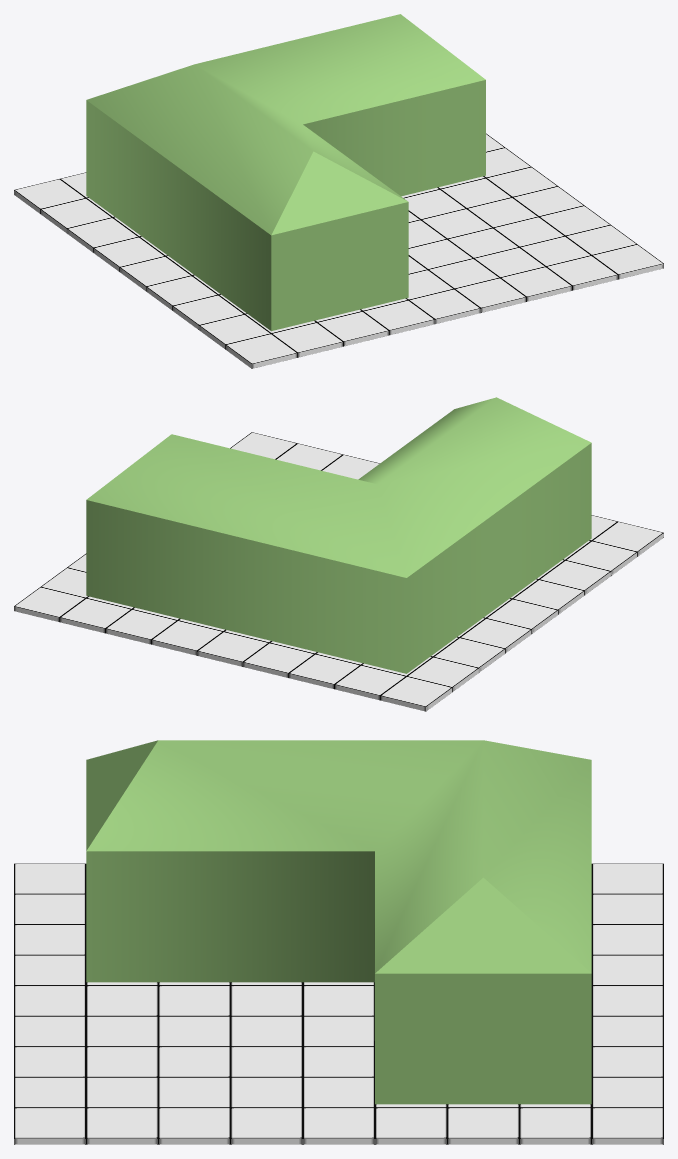
File: XG_Village-School.glb
The picture shows the model from 3 angles, top to bottom: view 1: azimuth 30°, elevation 25°; view 2: azimuth 150°, elevation 25°; view 3: azimuth 270°, elevation 25°; orthographic projection. The views are drawn at different scales.
Parts seen in each view (by area): view 1: building_7m_3m_g_shape_007, 1m_base_block_2118, 1m_base_block_2111, 1m_base_block_2116, 1m_base_block_2115, 1m_base_block_2117, 1m_base_block_2114, 1m_base_block_2119, 1m_base_block_2112, 1m_base_block_2113, 1m_base_block_2099, 1m_base_block_2097 (+23 smaller); view 2: building_7m_3m_g_shape_007, 1m_base_block_2127, 1m_base_block_2120, 1m_base_block_2124, 1m_base_block_2125, 1m_base_block_2126, 1m_base_block_2121, 1m_base_block_2122, 1m_base_block_2128, 1m_base_block_2123, 1m_base_block_2099, 1m_base_block_2103 (+10 smaller); view 3: building_7m_3m_g_shape_007, 1m_base_block_2104, 1m_base_block_2108, 1m_base_block_2105, 1m_base_block_2107, 1m_base_block_2109, 1m_base_block_2110, 1m_base_block_2119, 1m_base_block_2128, 1m_base_block_2106, 1m_base_block_2052, 1m_base_block_2051 (+30 smaller).
Boxes of the visible parts, left/top/right/bottom form: building_7m_3m_g_shape_007: left=86, top=14, right=485, bottom=331; 1m_base_block_2118: left=225, top=333, right=297, bottom=368; 1m_base_block_2111: left=500, top=266, right=572, bottom=301; 1m_base_block_2116: left=546, top=255, right=618, bottom=290; 1m_base_block_2115: left=317, top=311, right=389, bottom=346; 1m_base_block_2117: left=272, top=322, right=343, bottom=357; 1m_base_block_2114: left=363, top=300, right=434, bottom=335; 1m_base_block_2119: left=592, top=244, right=663, bottom=279; 1m_base_block_2112: left=455, top=278, right=526, bottom=312; 1m_base_block_2113: left=409, top=289, right=480, bottom=323; 1m_base_block_2099: left=119, top=256, right=191, bottom=291; 1m_base_block_2097: left=67, top=217, right=138, bottom=252; building_7m_3m_g_shape_007: left=86, top=397, right=591, bottom=673; 1m_base_block_2127: left=380, top=676, right=452, bottom=711; 1m_base_block_2120: left=105, top=609, right=177, bottom=644; 1m_base_block_2124: left=288, top=654, right=360, bottom=689; 1m_base_block_2125: left=59, top=598, right=131, bottom=633; 1m_base_block_2126: left=334, top=665, right=406, bottom=700; 1m_base_block_2121: left=151, top=620, right=222, bottom=655; 1m_base_block_2122: left=197, top=631, right=268, bottom=666; 1m_base_block_2128: left=14, top=587, right=85, bottom=621; 1m_base_block_2123: left=243, top=643, right=314, bottom=677; 1m_base_block_2099: left=486, top=599, right=558, bottom=633; 1m_base_block_2103: left=565, top=541, right=637, bottom=575; building_7m_3m_g_shape_007: left=86, top=740, right=591, bottom=1104; 1m_base_block_2104: left=447, top=1107, right=519, bottom=1144; 1m_base_block_2108: left=158, top=1107, right=230, bottom=1144; 1m_base_block_2105: left=375, top=1107, right=447, bottom=1144; 1m_base_block_2107: left=230, top=1107, right=302, bottom=1144; 1m_base_block_2109: left=519, top=1107, right=591, bottom=1144; 1m_base_block_2110: left=86, top=1107, right=158, bottom=1144; 1m_base_block_2119: left=14, top=1107, right=86, bottom=1144; 1m_base_block_2128: left=591, top=1107, right=663, bottom=1144; 1m_base_block_2106: left=303, top=1107, right=374, bottom=1144; 1m_base_block_2052: left=158, top=1046, right=230, bottom=1077; 1m_base_block_2051: left=230, top=1046, right=302, bottom=1077.
Size of the model in its own units: 9 by 3.15 by 9.
Materials: 2 (1 with a texture image).
